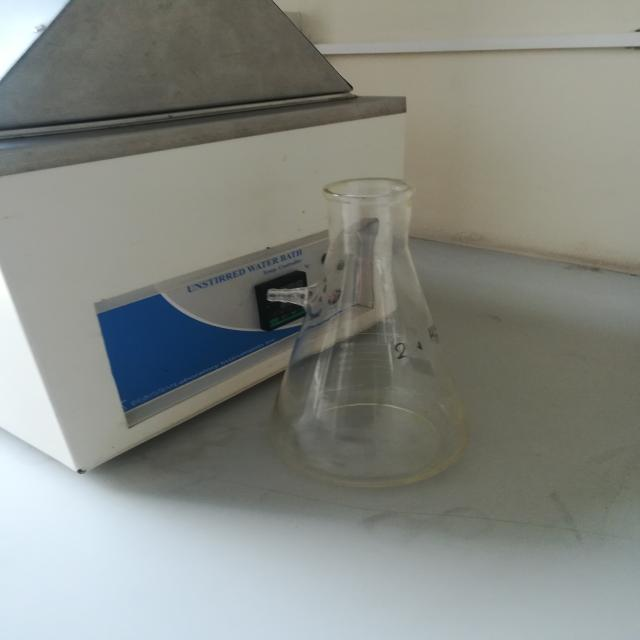Conical_Flask: (243, 119, 508, 532)
